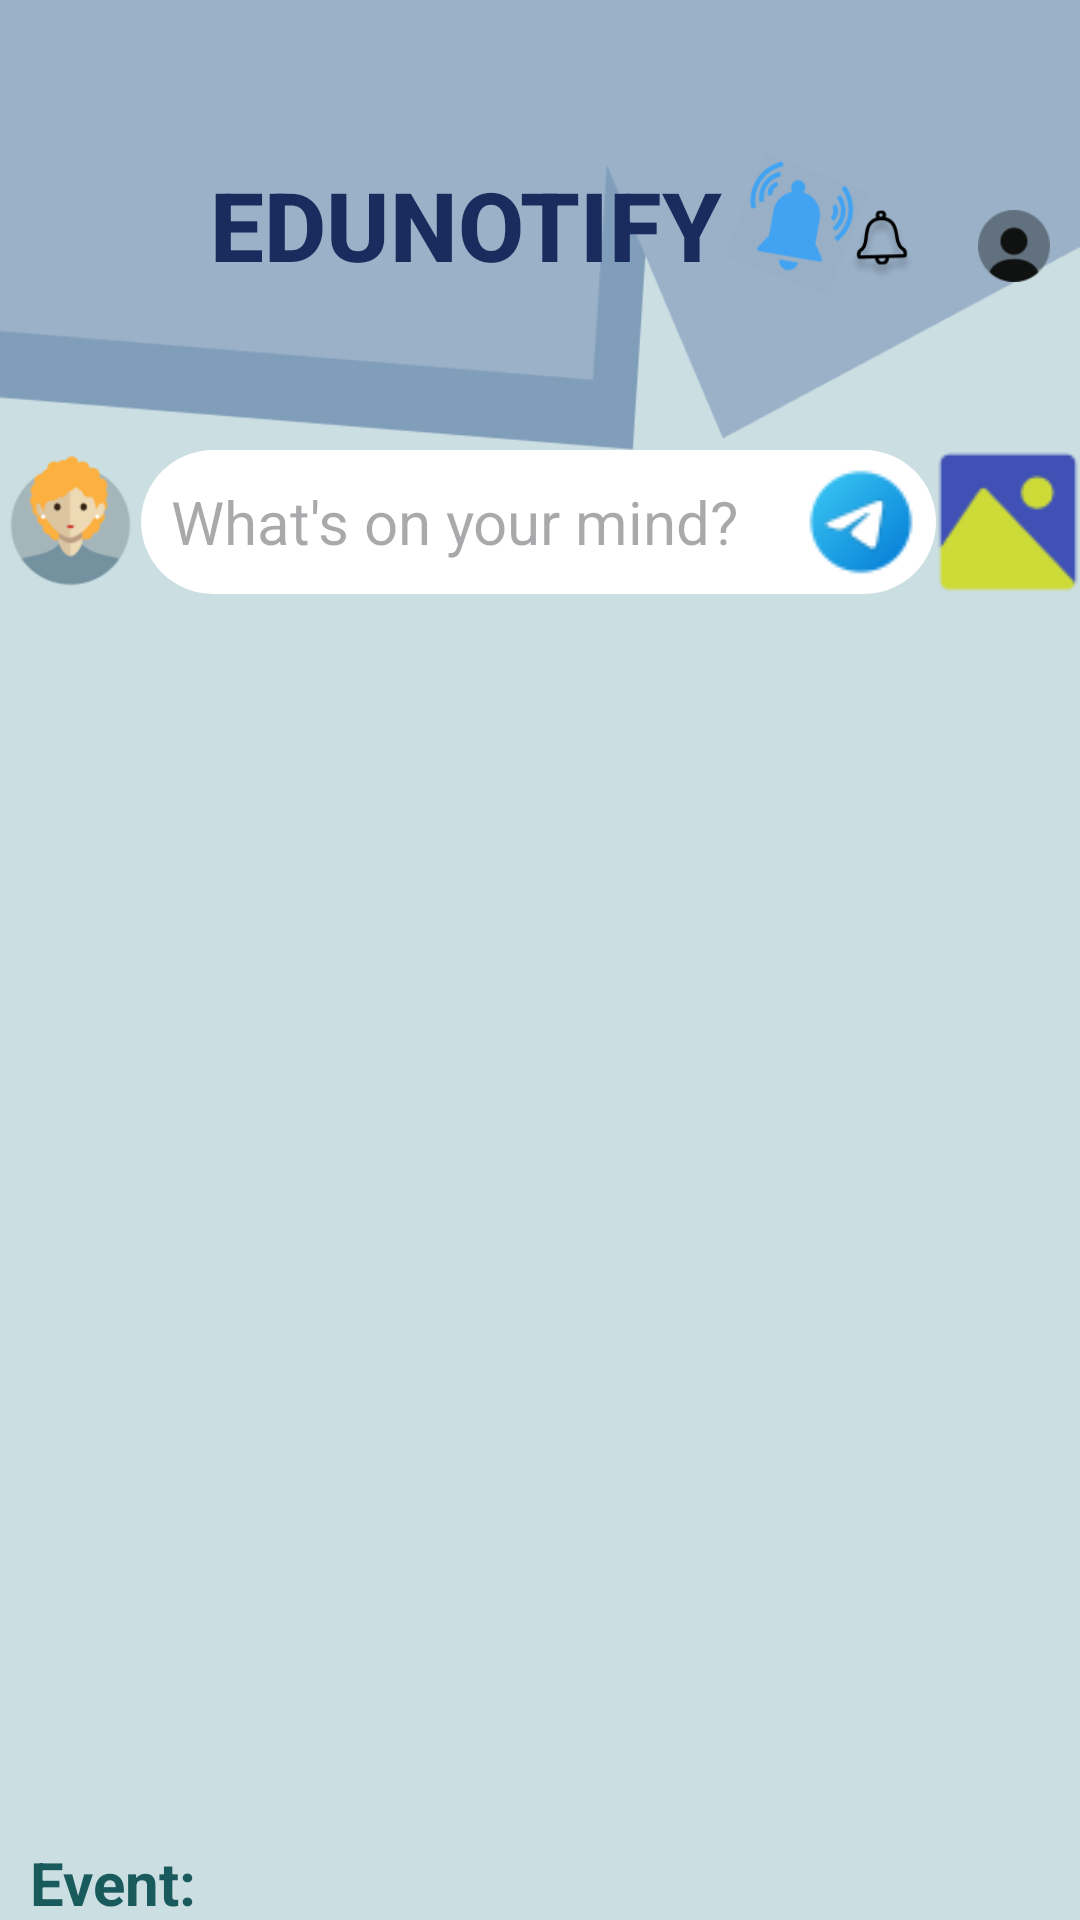

Icon bounding boxes for this 1080x1920 phone screenshot, format (x1, y1, x2, y2):
bell home: (856, 210, 908, 271)
gallery: (939, 453, 1077, 591)
person home: (978, 210, 1050, 282)
profile: (11, 456, 130, 585)
